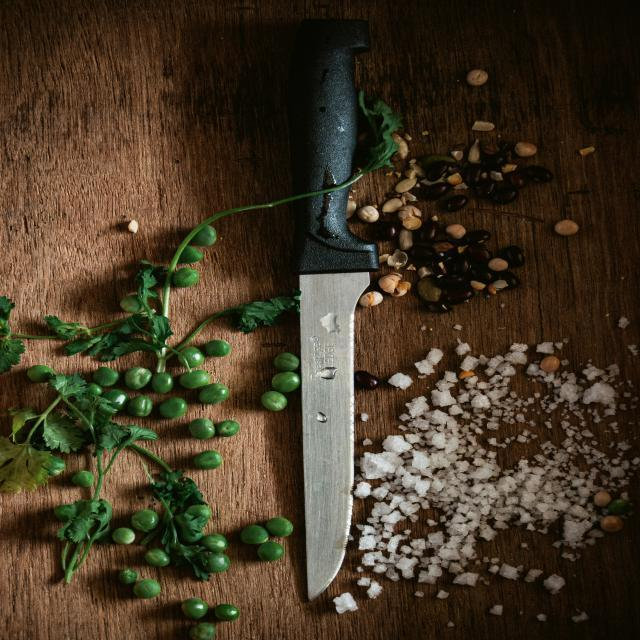knife: (292, 20, 381, 604)
